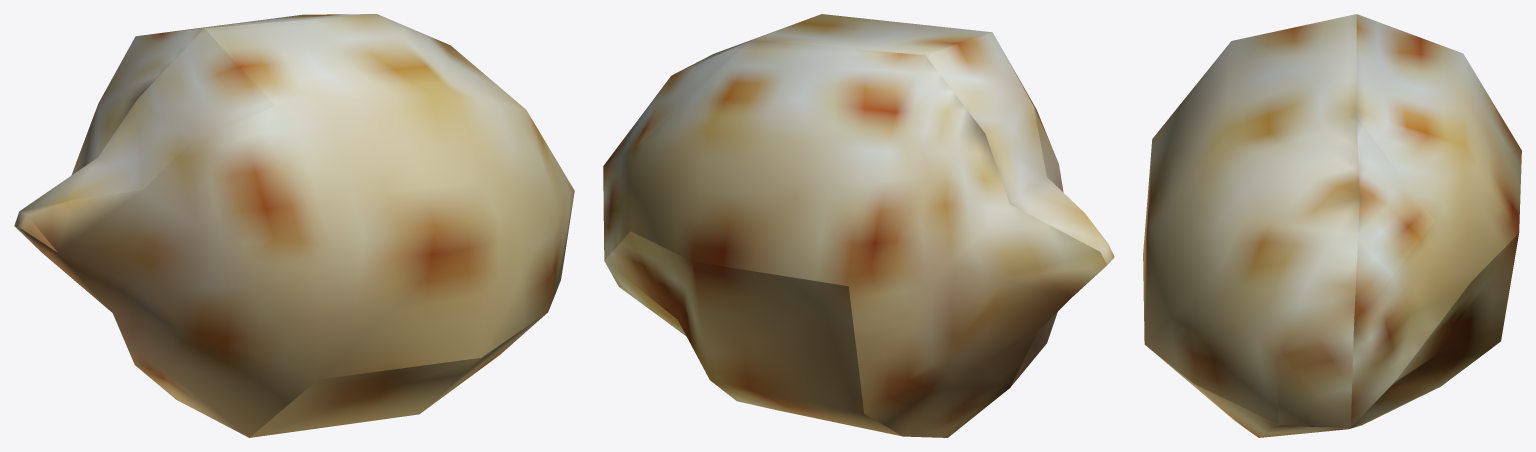
Rendered from SMSH_Shell_13.FBX.
3 views of the same model, side by side, from view 1: azimuth 30°, elevation 25°; view 2: azimuth 150°, elevation 25°; view 3: azimuth 270°, elevation 25° (orthographic). The views are drawn at different scales.
Visible parts, largest first — view 1: Ytlds_Shell_13; view 2: Ytlds_Shell_13; view 3: Ytlds_Shell_13.
Part boxes in pixels (x1,y1,x2,y2): Ytlds_Shell_13: (14, 14, 574, 437); Ytlds_Shell_13: (603, 14, 1114, 437); Ytlds_Shell_13: (1143, 14, 1521, 437).
Bounding box in the file's own units: 39.17 × 27.94 × 27.54.
